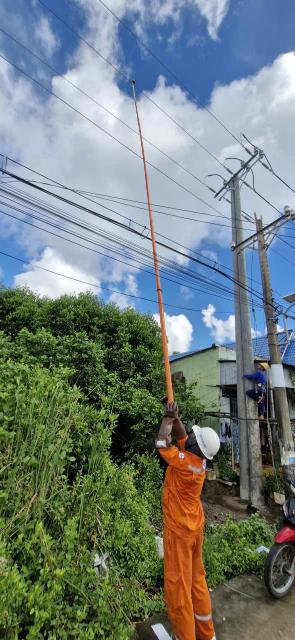gloves: (148, 399, 191, 443), (151, 403, 184, 456)
helmet: (192, 418, 225, 458)
